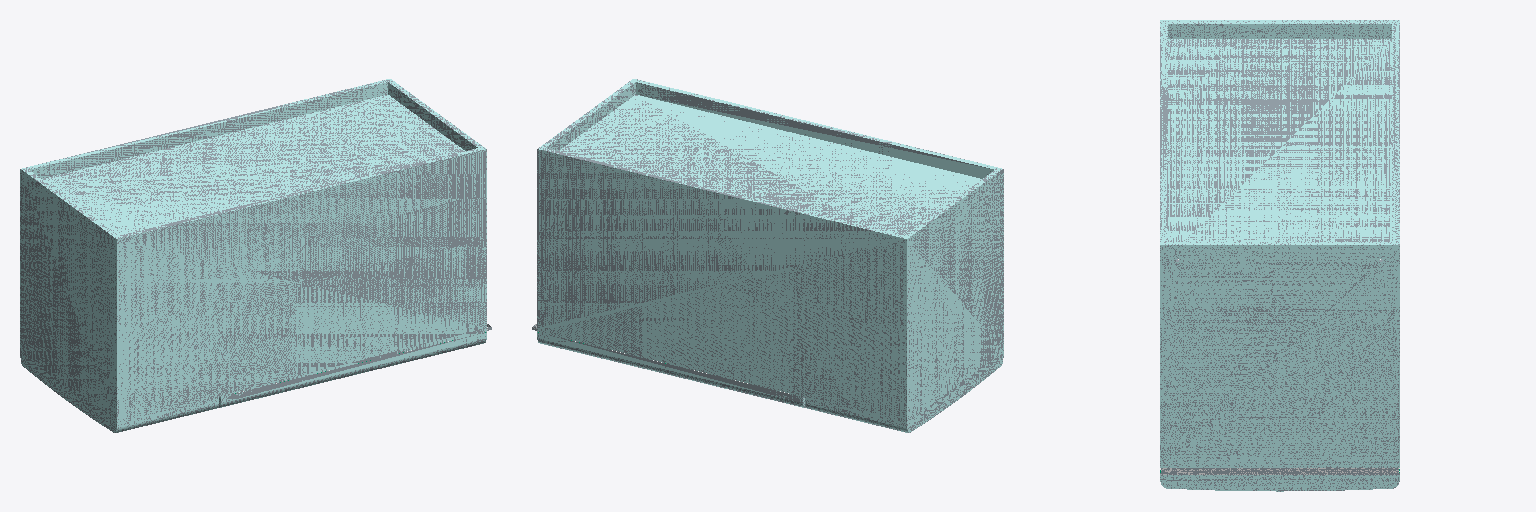
URDF robot description (fridge):
<?xml version="1.0" ?>
<robot name="fridge">
	<link name="base"/>
	<link name="link_0">
		<visual name="out-frame">
			<origin xyz="0 0 0"/>
			<geometry>
				<mesh filename="texture_dae/frame.dae" scale="0.7 0.7 0.7"/>
			</geometry>
		</visual>
		<collision>
			<origin xyz="0 0 0"/>
			<geometry>
				<mesh filename="texture_dae/frame.dae" scale="0.7 0.7 0.7"/>
			</geometry>
		</collision>
	</link>
	<joint name="joint_0" type="fixed">
		<origin rpy="1.570796326794897 0 -1.570796326794897" xyz="0 0 0"/>
		<child link="link_0"/>
		<parent link="base"/>
	</joint>
	<link name="link_1">
		<visual name="surf-board">
			<origin xyz="0.38491277051510986 -0.19475922049251365 0"/>
			<geometry>
				<mesh filename="texture_dae/board.dae" scale="0.7 0.7 0.7"/>
			</geometry>
		</visual>
		<collision>
			<origin xyz="0.38491277051510986 -0.19475922049251365 0"/>
			<geometry>
				<mesh filename="texture_dae/board.dae" scale="0.7 0.7 0.7"/>
			</geometry>
		</collision>
	</link>
	<joint name="joint_1" type="revolute">
		<origin xyz="-0.38491277051510986 0.19475922049251365 0"/>
		<axis xyz="0 -1 0"/>
		<child link="link_1"/>
		<parent link="link_0"/>
		<limit lower="0" upper="1.5079644737231006"/>
	</joint>
	<link name="link_2">
		<visual name="handle">
			<origin xyz="0 0 0"/>
			<geometry>
				<mesh filename="texture_dae/9960013.dae" scale="1 1 1"/>
			</geometry>
		</visual>
		<collision>
			<origin xyz="0 0 0"/>
			<geometry>
				<mesh filename="texture_dae/9960013.dae" scale="1 1 1"/>
			</geometry>
		</collision>
	</link>
	<joint name="joint_2" type="revolute">
		<origin xyz="0.38491277051510986 -0.19475922049251365 0.029275912658877176"/>
		<child link="link_2"/>
		<parent link="link_1"/>
		<axis xyz="0 0 1"/>
		<limit lower="0" upper="1.5079644737231006"/>
	</joint>
</robot>

--- What the picture shows (computed from the rendered views, not written in the file) ---
Views: 3 orthographic renders of the robot side by side, from view 1: azimuth 30°, elevation 25°; view 2: azimuth 150°, elevation 25°; view 3: azimuth 270°, elevation 25°.
Model fridge with 4 links and 3 joints (2 revolute, 1 fixed), rooted at base, posed every joint at zero.
Links seen in each view (by area): view 1: link_0, link_1; view 2: link_0, link_1; view 3: link_0, link_1.
Link boxes in pixels (x1,y1,x2,y2): link_0: (20,79,491,432); link_1: (218,324,491,407); link_0: (532,79,1003,432); link_1: (534,324,805,407); link_0: (1160,20,1399,474); link_1: (1160,468,1399,491).
Bounding box of the posed robot: 1.01 × 0.4501 × 0.5113 m (x, y, z).
Meshes: 3 distinct files referenced, 2 mesh visuals loaded (2 Collada DAE); not drawn: 1 (reference not matched to a file when rendering).
